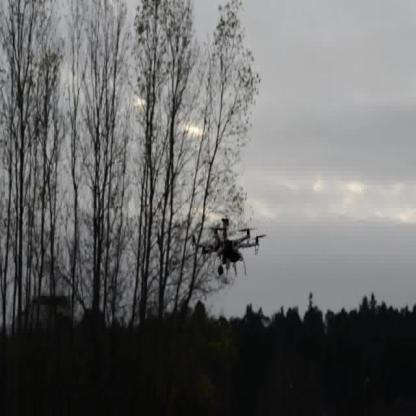drone: (190, 215, 262, 279)
